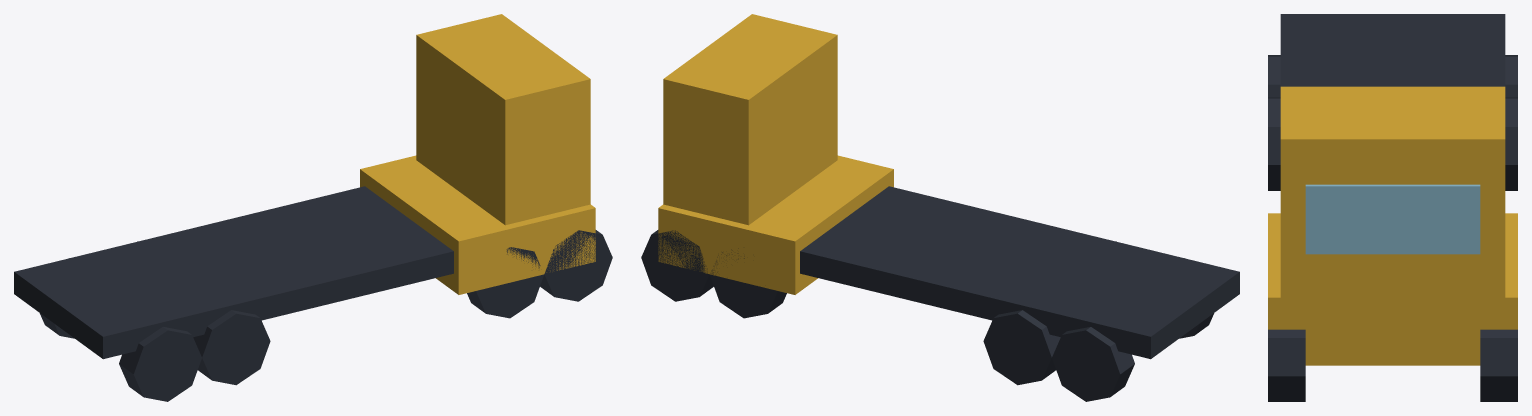
Rendered from tractor.glb.
3 renders of one model, left to right at view 1: azimuth 30°, elevation 25°; view 2: azimuth 150°, elevation 25°; view 3: azimuth 270°, elevation 25°, orthographic. The views are drawn at different scales.
Visible parts, largest first — view 1: tractor; view 2: tractor; view 3: tractor.
Part boxes in pixels (x1,y1,x2,y2): tractor: (14, 14, 612, 401); tractor: (641, 14, 1239, 401); tractor: (1268, 14, 1517, 401).
Bounding box in the file's own units: 5.9 × 2.4 × 2.
